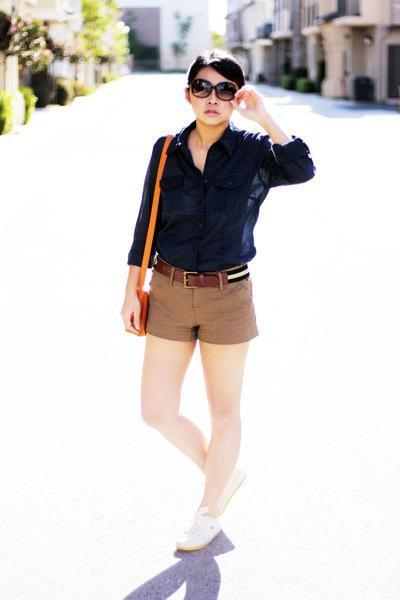bag: (107, 120, 196, 337)
shirt: (128, 124, 315, 275)
shoe: (188, 516, 219, 548)
shorts: (149, 269, 257, 346)
sunglass: (204, 82, 243, 100)
